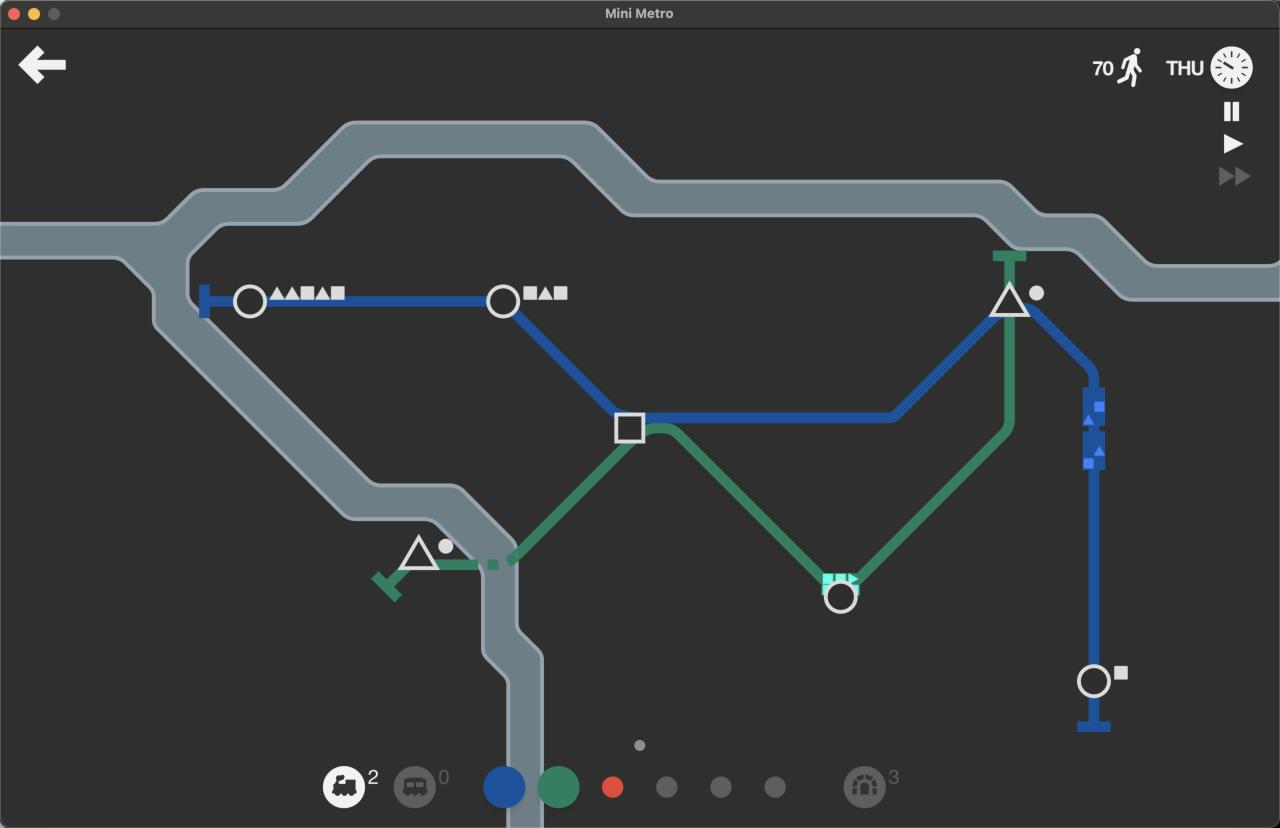CIRCLE: (1076, 663, 1113, 700), (486, 283, 521, 319), (233, 283, 268, 319)
SQUARE: (613, 412, 646, 445)
TRIANGLE: (395, 532, 440, 572), (989, 280, 1032, 319)
